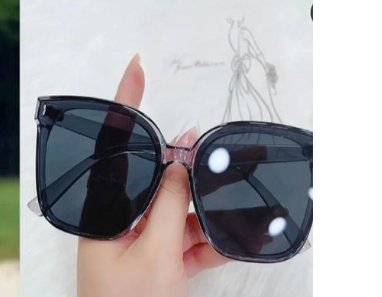glass: (24, 94, 319, 264)
